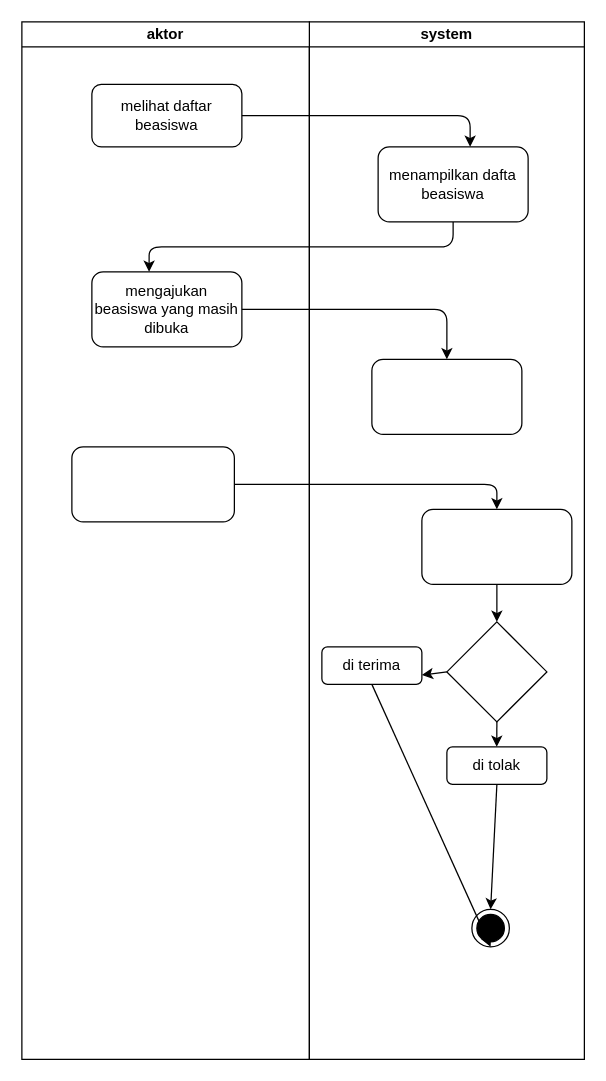
Some shapes in this 606 by 1081 pixel diagram are drawn without their labels. Each missing label, with the centre of its shape:
memeriksa kelengkapan berkas yang di unggah pemohon: the point at 446,396
mengumumkan hasil seleksi: the point at 496,546
petugas kemahasiswaan memverifikasi pengajuan: the point at 152,484
